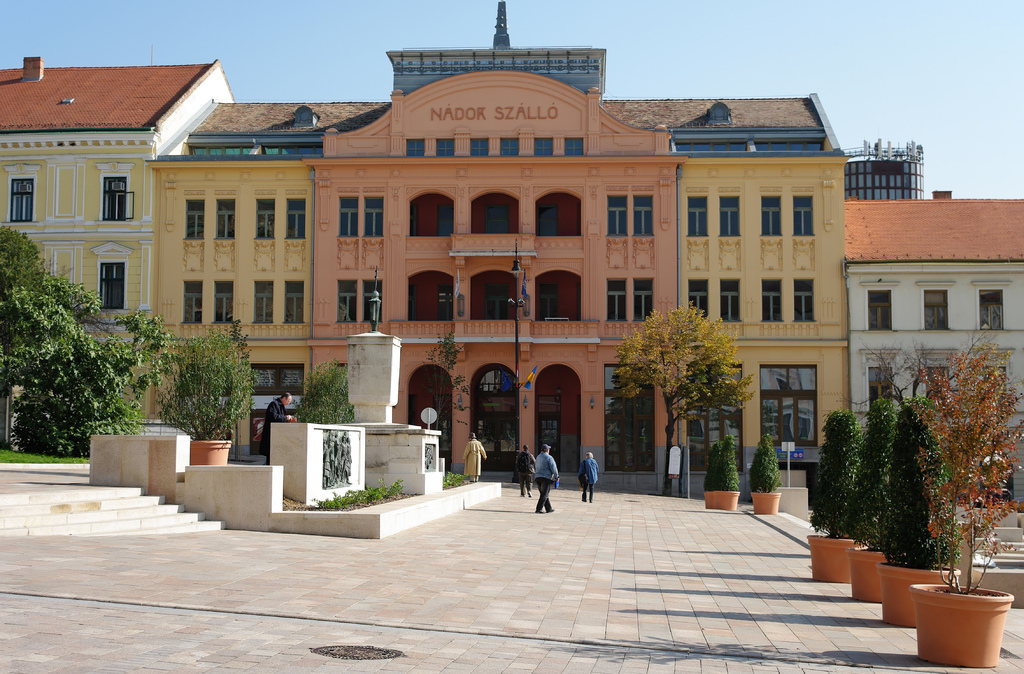person: (256, 390, 297, 459)
